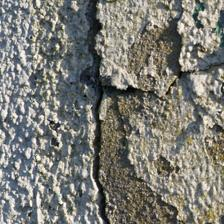Crack: (0, 97, 141, 143), (3, 86, 114, 138)
